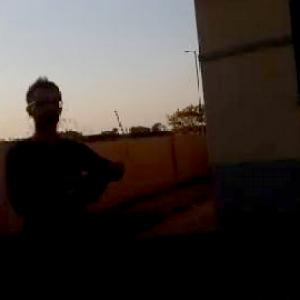follow: (1, 70, 132, 299)
